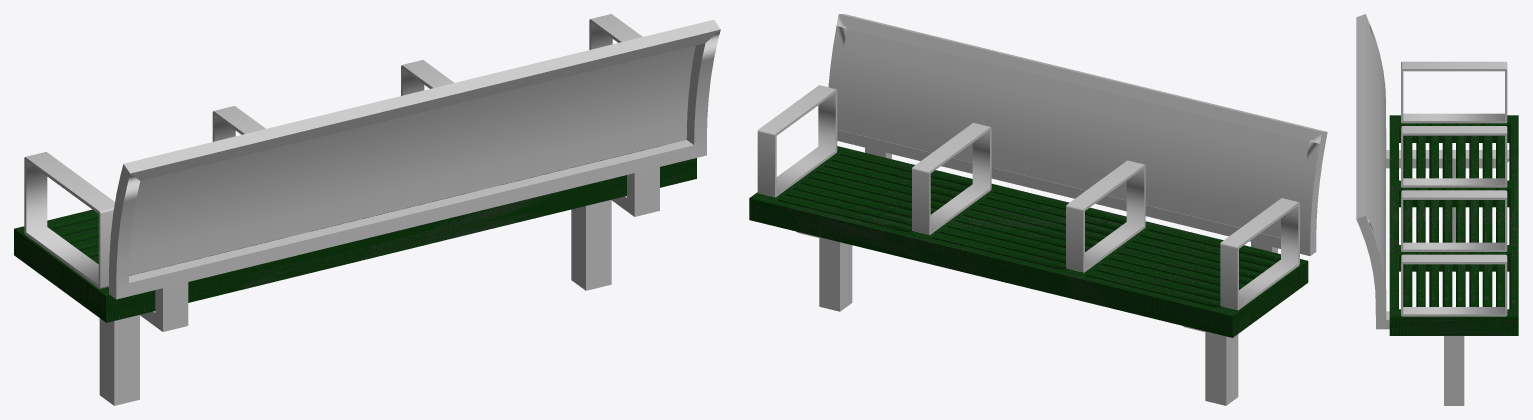
3 views of the same model, side by side, from view 1: azimuth 30°, elevation 25°; view 2: azimuth 150°, elevation 25°; view 3: azimuth 270°, elevation 25° (orthographic). The views are drawn at different scales.
Parts seen in each view (by area): view 1: mesh19_mesh19-geometry, mesh17_mesh17-geometry, mesh3_mesh3-geometry, mesh4_mesh4-geometry, mesh1_mesh1-geometry, mesh9_mesh9-geometry, mesh15_mesh15-geometry, mesh13_mesh13-geometry; view 2: mesh19_mesh19-geometry, mesh3_mesh3-geometry, mesh4_mesh4-geometry, mesh17_mesh17-geometry, mesh1_mesh1-geometry, mesh15_mesh15-geometry, mesh13_mesh13-geometry; view 3: mesh3_mesh3-geometry, mesh4_mesh4-geometry, mesh19_mesh19-geometry, mesh17_mesh17-geometry, mesh1_mesh1-geometry, mesh13_mesh13-geometry, mesh9_mesh9-geometry.
Boxes of the visible parts, <box> form: mesh19_mesh19-geometry: <box>129,45,695,275</box>; mesh17_mesh17-geometry: <box>116,19,720,299</box>; mesh3_mesh3-geometry: <box>14,146,696,322</box>; mesh4_mesh4-geometry: <box>24,14,686,288</box>; mesh1_mesh1-geometry: <box>99,200,611,405</box>; mesh9_mesh9-geometry: <box>140,167,659,331</box>; mesh15_mesh15-geometry: <box>109,164,140,299</box>; mesh13_mesh13-geometry: <box>686,30,720,155</box>; mesh19_mesh19-geometry: <box>837,28,1309,237</box>; mesh3_mesh3-geometry: <box>749,146,1308,337</box>; mesh4_mesh4-geometry: <box>757,85,1299,310</box>; mesh17_mesh17-geometry: <box>837,14,1326,255</box>; mesh1_mesh1-geometry: <box>819,237,1238,405</box>; mesh15_mesh15-geometry: <box>1300,132,1327,255</box>; mesh13_mesh13-geometry: <box>828,14,846,117</box>; mesh3_mesh3-geometry: <box>1389,115,1518,335</box>; mesh4_mesh4-geometry: <box>1401,61,1507,316</box>; mesh19_mesh19-geometry: <box>1369,28,1385,293</box>; mesh17_mesh17-geometry: <box>1356,14,1369,219</box>; mesh1_mesh1-geometry: <box>1444,168,1464,405</box>; mesh13_mesh13-geometry: <box>1356,216,1385,314</box>; mesh9_mesh9-geometry: <box>1376,129,1509,329</box>.
Size of the model in its own units: 0.863 by 0.411 by 0.2938.
